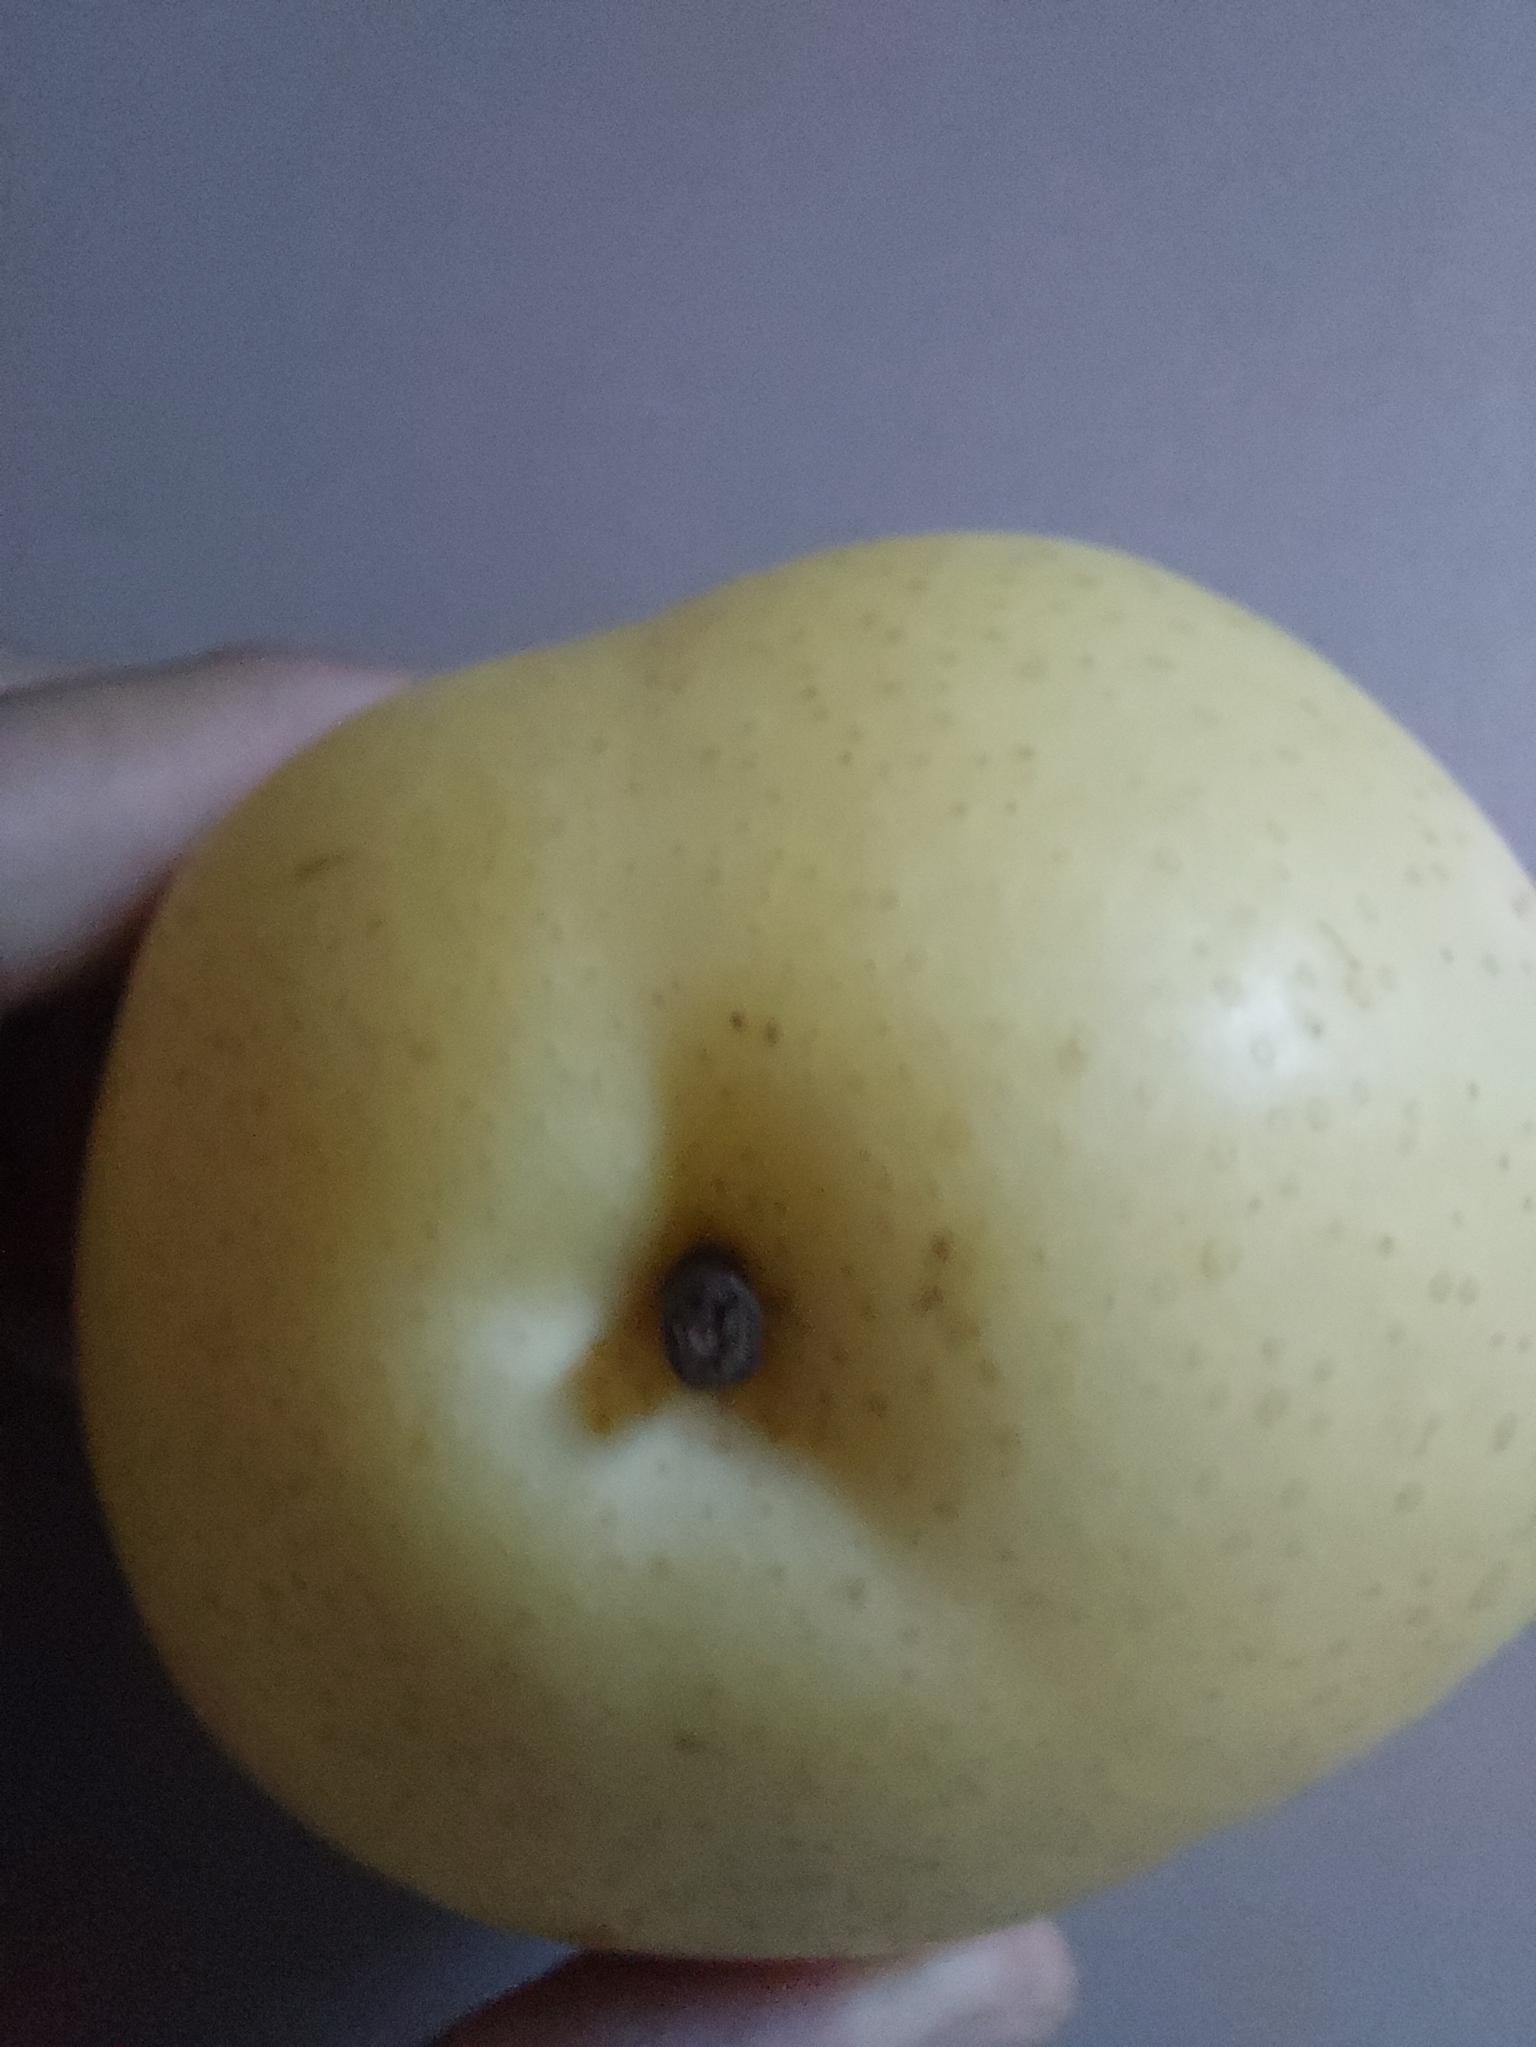Good Pear: (76, 526, 1536, 1971)
